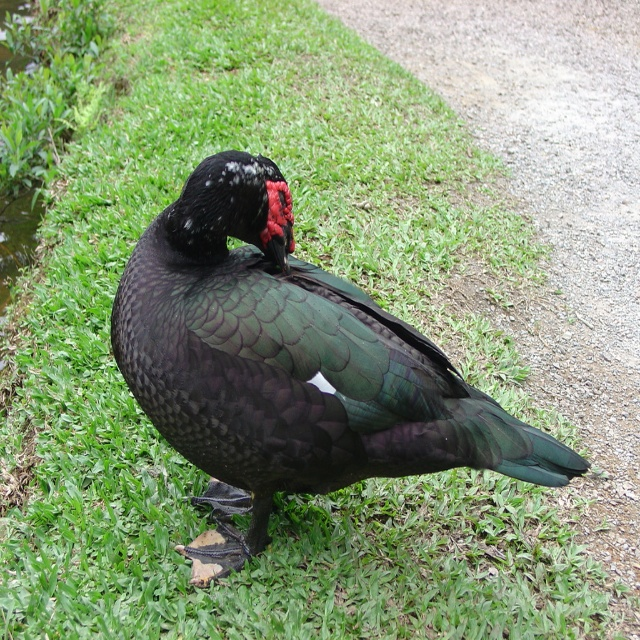Duck: (118, 140, 603, 555)
